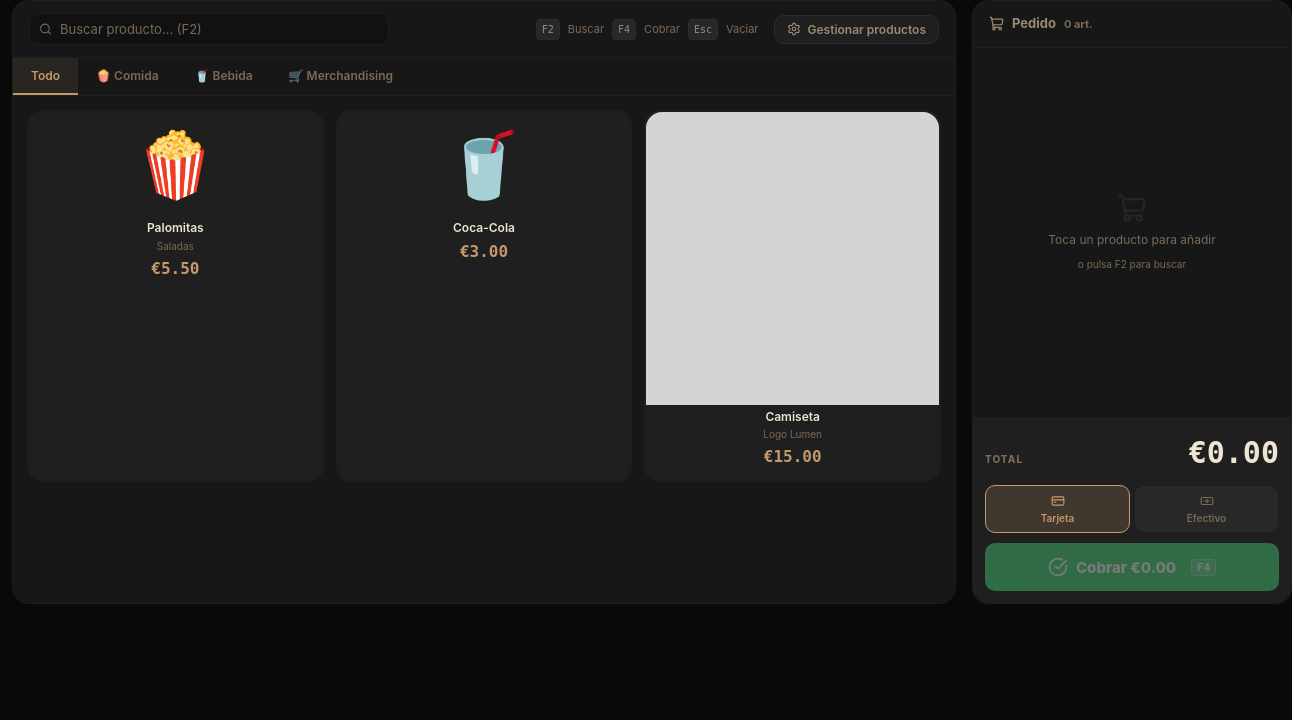
Test: ConcessionPage — comprehensive › shows empty state when no products match filter
This screenshot has width=1292, height=720.
Expected: the text "Palomitas" is shown, [147,220,204,235]
Type "zzzznotexist" into the field.
click(209, 29); type("zzzznotexist")  # box [29,13,389,45]
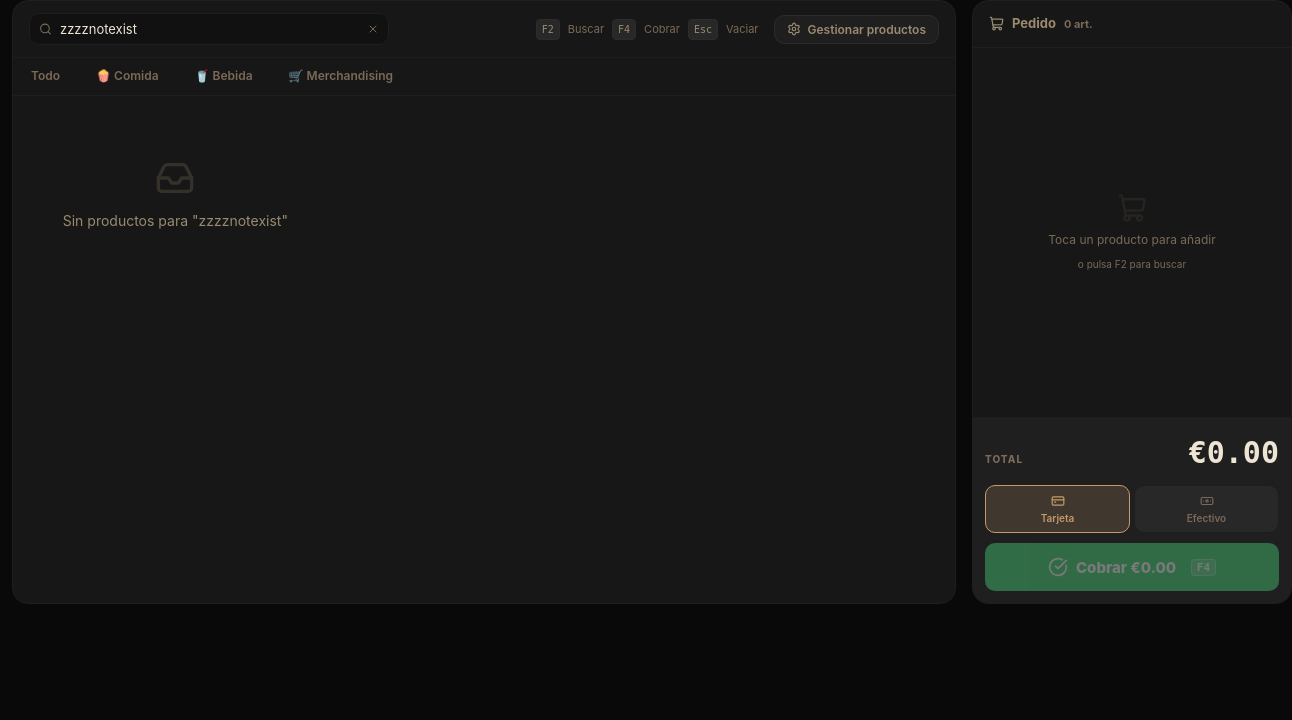
Expected: the button "Palomitas" is gone
